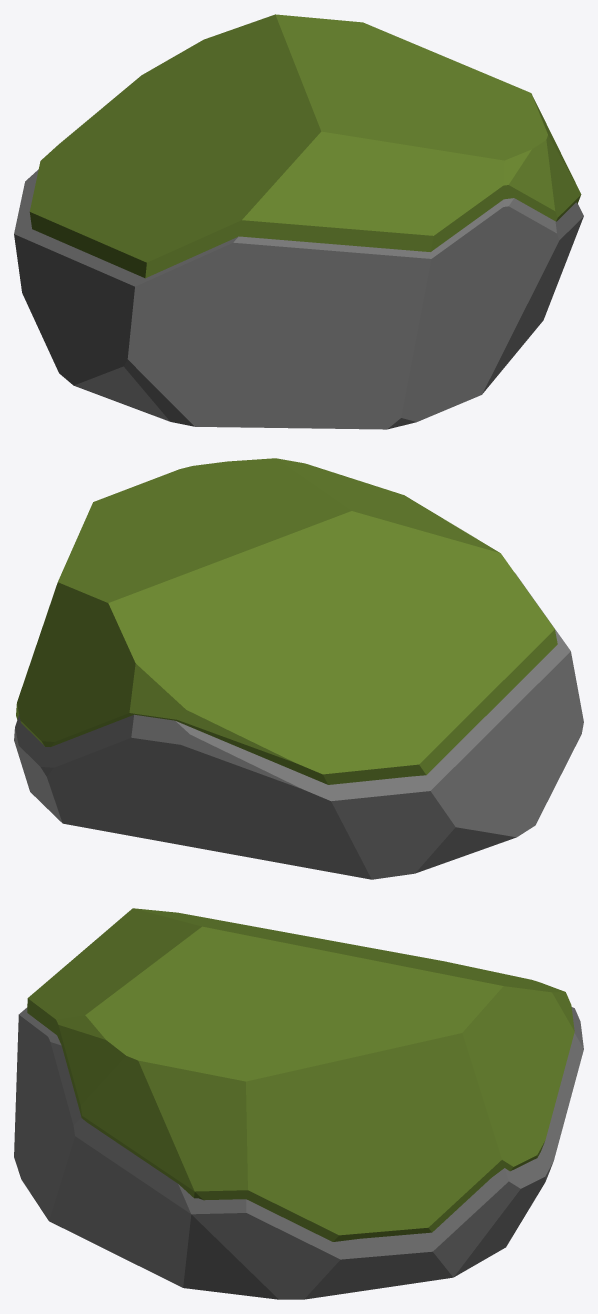
The model's file is Stone_4_moss_vc.fbx.
3 renders of one model, top to bottom at view 1: azimuth 30°, elevation 25°; view 2: azimuth 150°, elevation 25°; view 3: azimuth 270°, elevation 25°, orthographic. The views are drawn at different scales.
Visible parts, largest first — view 1: Stone_4_moss_vc; view 2: Stone_4_moss_vc; view 3: Stone_4_moss_vc.
Part boxes in pixels (x1,y1,x2,y2): Stone_4_moss_vc: (14,14,583,429); Stone_4_moss_vc: (14,458,583,879); Stone_4_moss_vc: (14,908,583,1299).
Size of the model in its own units: 2.37 by 1.13 by 2.33.
